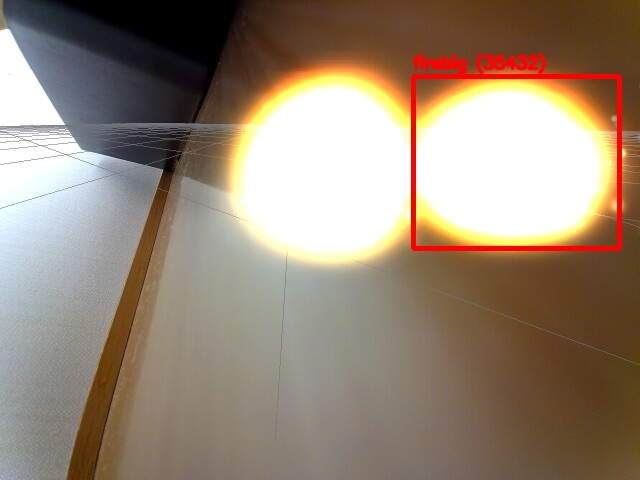firebig: (413, 76, 619, 248)
